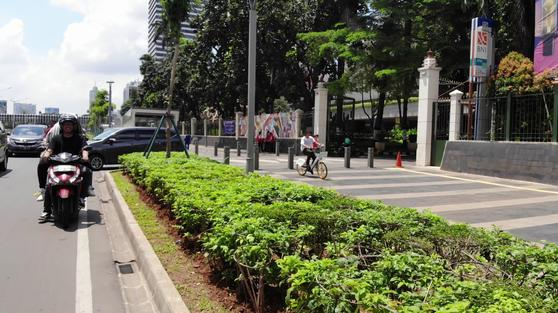bike: (290, 145, 334, 186)
